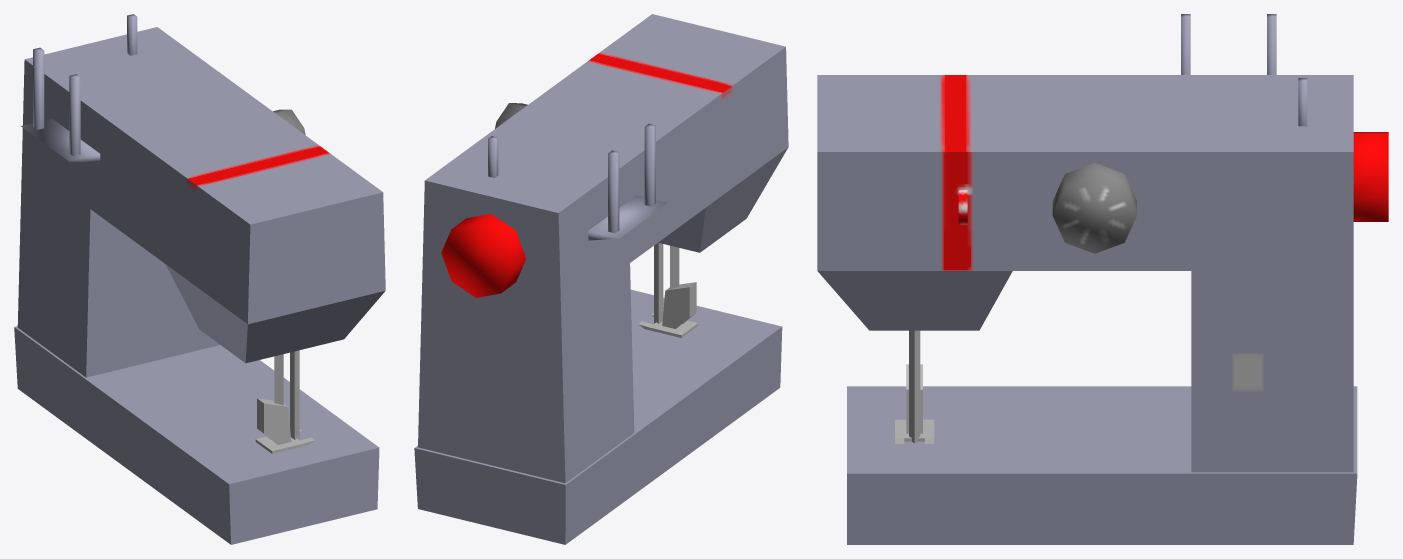
The model's file is Sewing1Lvl.fbx.
The picture shows the model from 3 angles, left to right: view 1: azimuth 30°, elevation 25°; view 2: azimuth 150°, elevation 25°; view 3: azimuth 270°, elevation 25°; orthographic projection. The views are drawn at different scales.
Parts seen in each view (by area): view 1: Base_low, SewKeeper_low, Sew_low; view 2: Base_low, SewKeeper_low, Sew_low; view 3: Base_low, Sew_low, SewKeeper_low.
Part boxes in pixels (left/top/right/bottom): Base_low: left=14, top=14, right=385, bottom=544; SewKeeper_low: left=255, top=354, right=314, bottom=453; Sew_low: left=290, top=350, right=299, bottom=439; Base_low: left=414, top=14, right=788, bottom=544; SewKeeper_low: left=638, top=245, right=698, bottom=337; Sew_low: left=654, top=242, right=663, bottom=323; Base_low: left=817, top=14, right=1388, bottom=544; Sew_low: left=909, top=330, right=920, bottom=443; SewKeeper_low: left=895, top=364, right=934, bottom=443.
Size of the model in its own units: 220 by 405 by 481.
